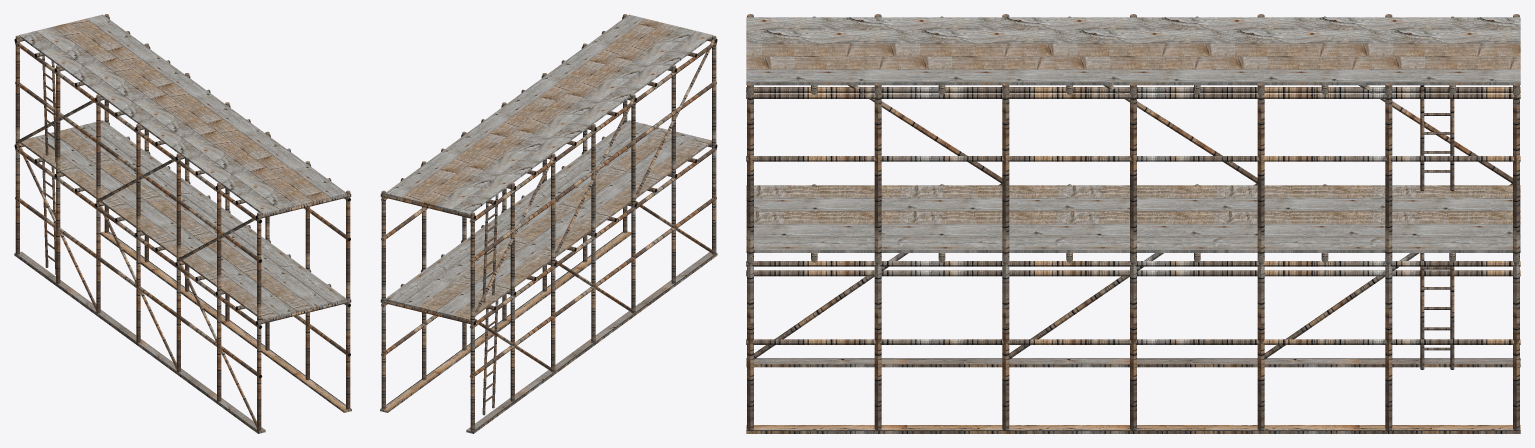
File: bldg-scaffold-run.glb
3 views of the same model, side by side, from view 1: azimuth 30°, elevation 25°; view 2: azimuth 150°, elevation 25°; view 3: azimuth 270°, elevation 25° (orthographic). The views are drawn at different scales.
Parts seen in each view (by area): view 1: bldg-scaffold-run; view 2: bldg-scaffold-run; view 3: bldg-scaffold-run.
Boxes of the visible parts, x1,y1,x2,y2 form: bldg-scaffold-run: [14, 14, 351, 433]; bldg-scaffold-run: [380, 14, 717, 433]; bldg-scaffold-run: [746, 14, 1520, 433].
Size of the model in its own units: 2.5 by 5.6 by 11.3.
Materials: 2 (2 with a texture image).
